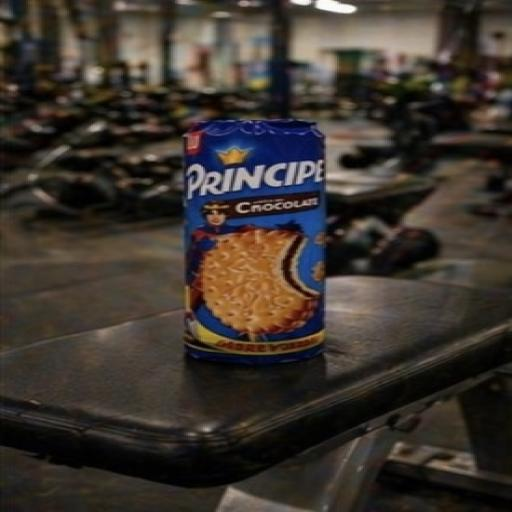prince: (84, 84, 451, 401)
